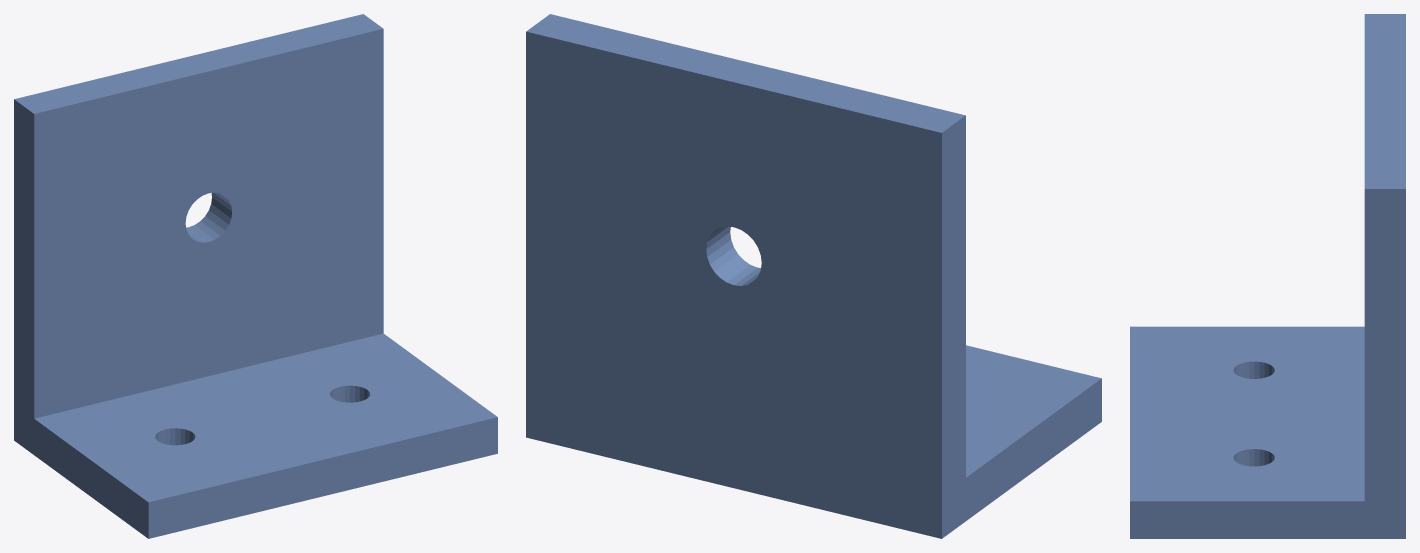
File: drilled-l-bracket.glb
The picture shows the model from 3 angles, left to right: view 1: azimuth 30°, elevation 25°; view 2: azimuth 150°, elevation 25°; view 3: azimuth 270°, elevation 25°; orthographic projection. The views are drawn at different scales.
Visible parts, largest first — view 1: Bracket with three through holes; view 2: Bracket with three through holes; view 3: Bracket with three through holes.
Boxes of the visible parts, x1,y1,x2,y2 form: Bracket with three through holes: [14, 14, 497, 538]; Bracket with three through holes: [526, 14, 1101, 538]; Bracket with three through holes: [1130, 14, 1405, 538].
Size of the model in its own units: 0.06 by 0.056 by 0.04.
